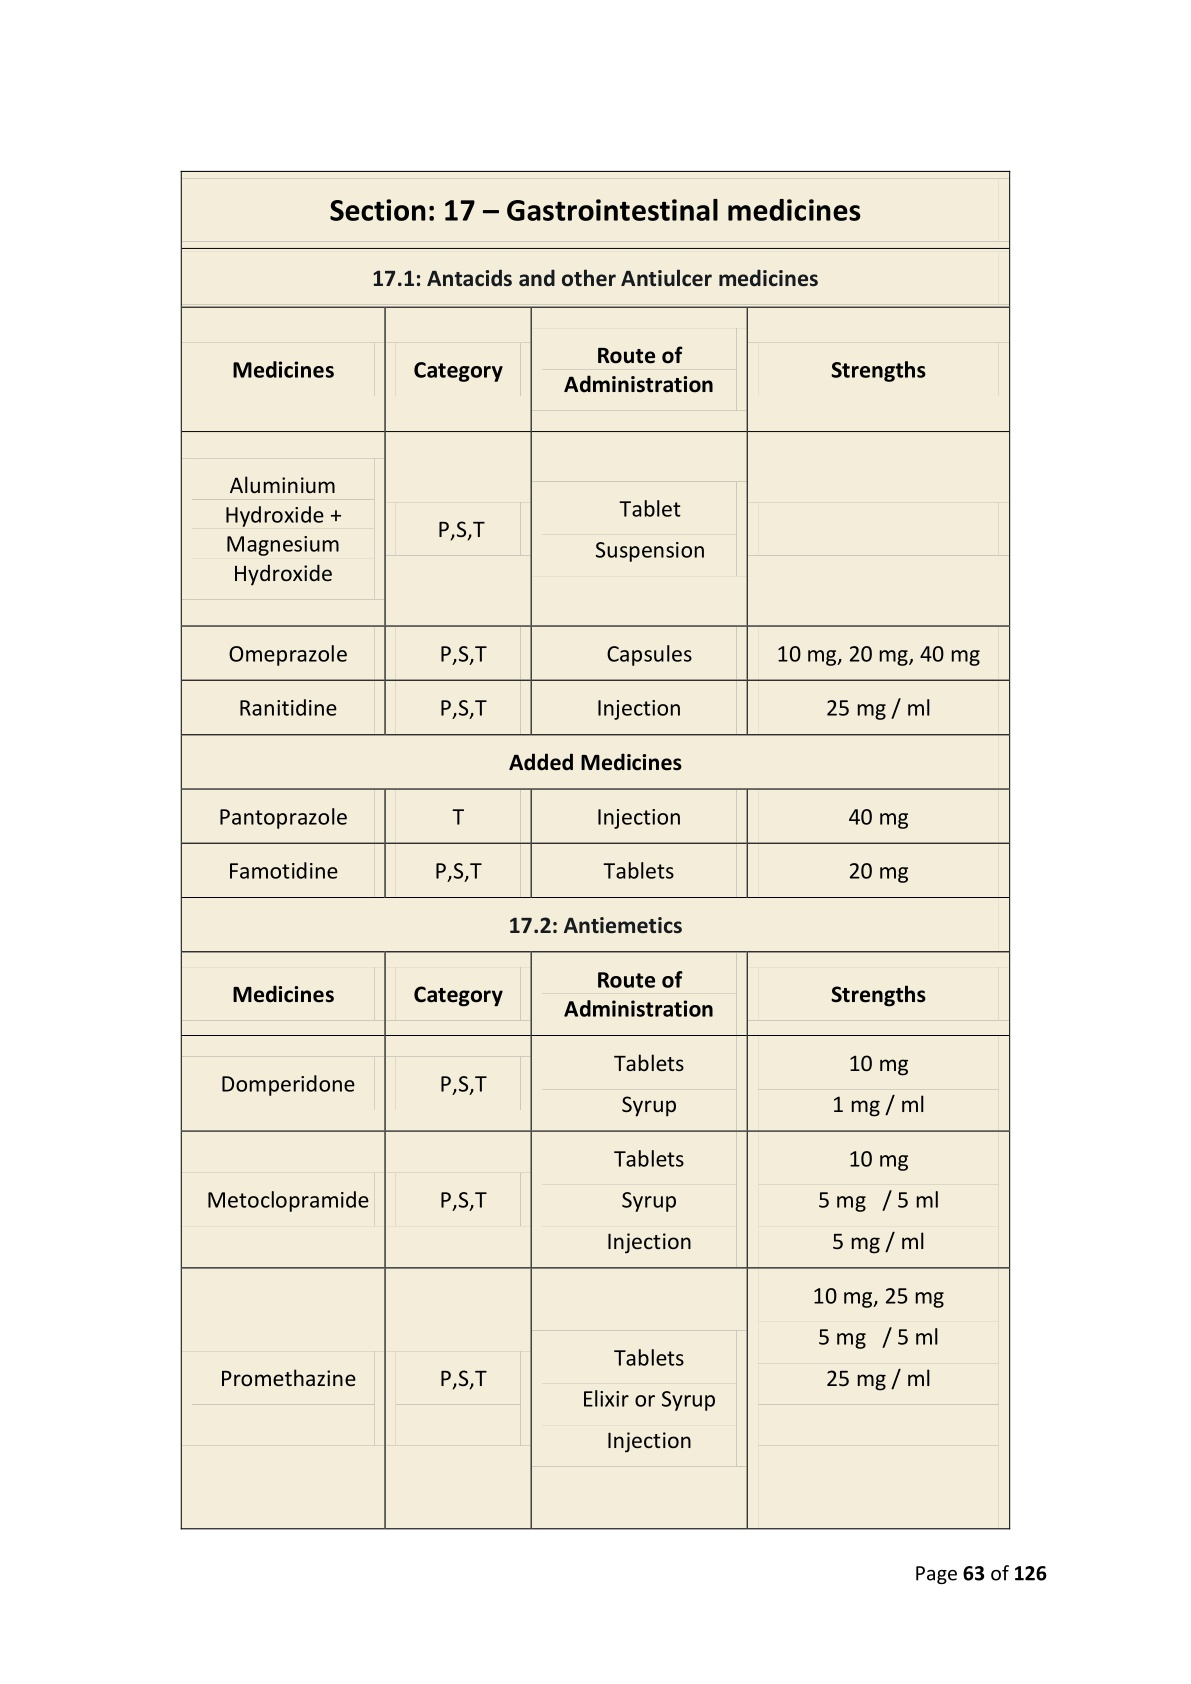merged_cells: (180, 167, 1012, 1531)
